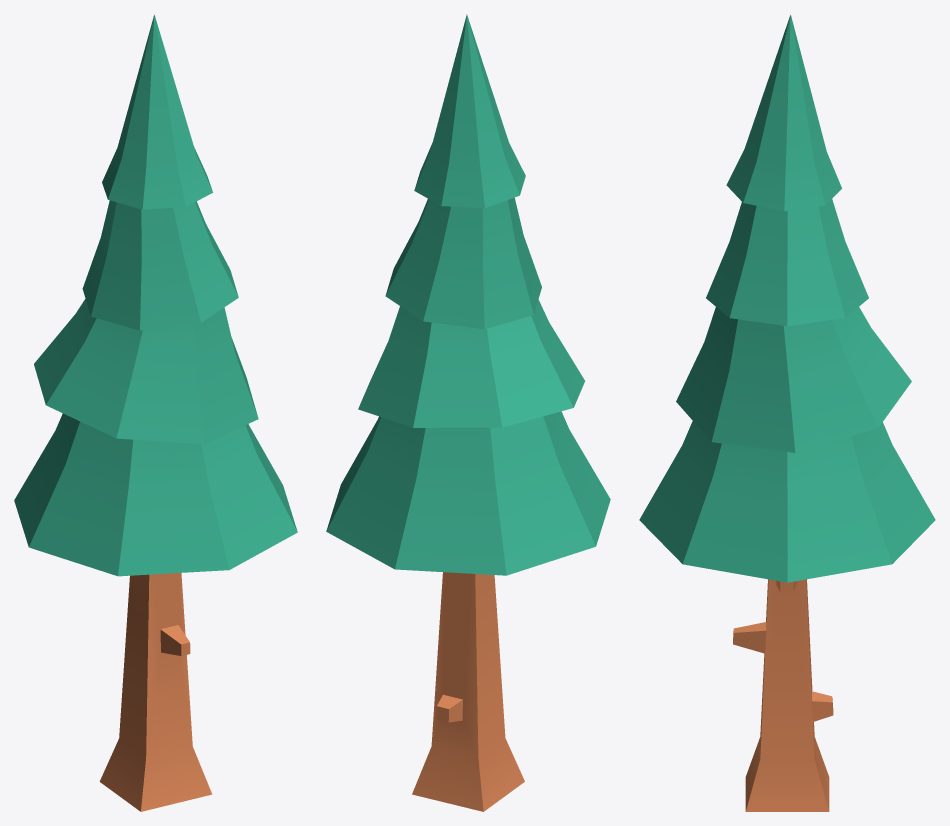
Rendered from treeHighCrooked.obj.
3 renders of one model, left to right at view 1: azimuth 30°, elevation 25°; view 2: azimuth 150°, elevation 25°; view 3: azimuth 270°, elevation 25°, orthographic.
Visible parts, largest first — view 1: treeHighCrooked; view 2: treeHighCrooked; view 3: treeHighCrooked.
Part boxes in pixels (x1,y1,x2,y2): treeHighCrooked: (14,14,297,811); treeHighCrooked: (326,14,610,811); treeHighCrooked: (639,14,935,811).
Size of the model in its own units: 1.02 by 2.97 by 1.02.
